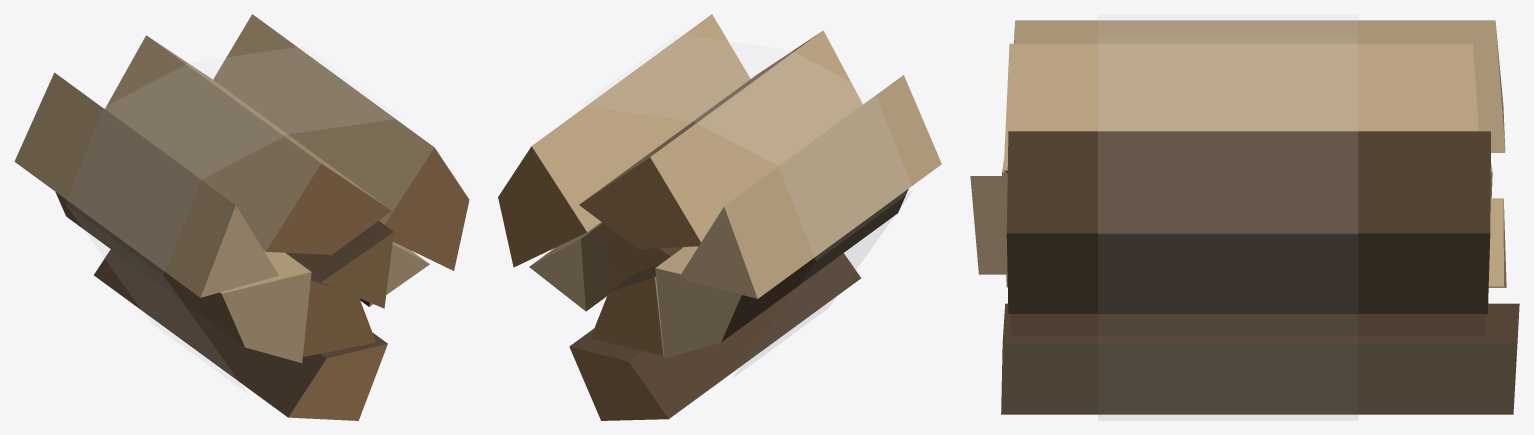
File: firewood-bundle-a.glb
3 views of the same model, side by side, from view 1: azimuth 30°, elevation 25°; view 2: azimuth 150°, elevation 25°; view 3: azimuth 270°, elevation 25° (orthographic). The views are drawn at different scales.
Visible parts, largest first — view 1: firewood-bundle-a; view 2: firewood-bundle-a; view 3: firewood-bundle-a.
Part boxes in pixels (x1,y1,x2,y2): firewood-bundle-a: (14,14,469,420); firewood-bundle-a: (498,14,941,420); firewood-bundle-a: (970,20,1519,414).
Bounding box in the file's own units: 0.3238 × 0.3051 × 0.422.
